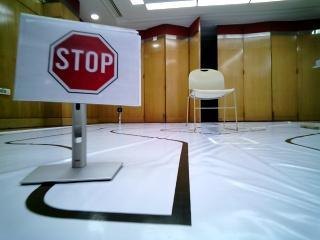stop: (31, 21, 134, 97)
